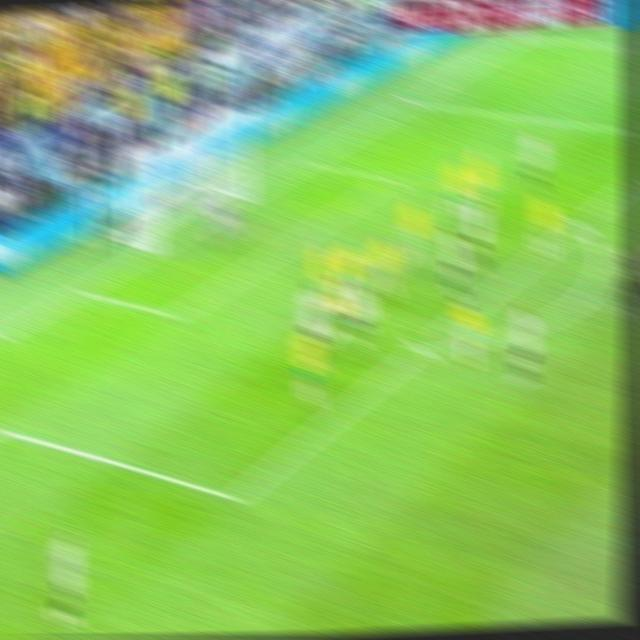bigarea_bottom_inner: (217, 476, 255, 517)
bigarea_top_outter: (396, 87, 427, 114)
bottom_arc_area_intersection: (405, 329, 438, 366)
corner: (508, 27, 538, 47)
smallarea_bottom_inner: (159, 294, 194, 332)
smallarea_bottom_outter: (65, 276, 96, 305)
smallarea_top_inner: (375, 163, 407, 194)
smallarea_top_outter: (292, 148, 321, 176)
top_arc_area_intersection: (563, 210, 594, 240)
